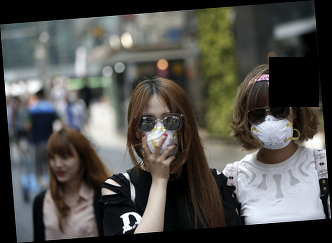with_mask: (248, 99, 294, 151), (138, 110, 180, 159)
without_mask: (50, 151, 80, 183)
